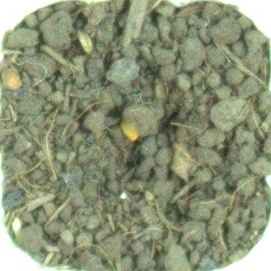pepper seed: (43, 42, 195, 185)
